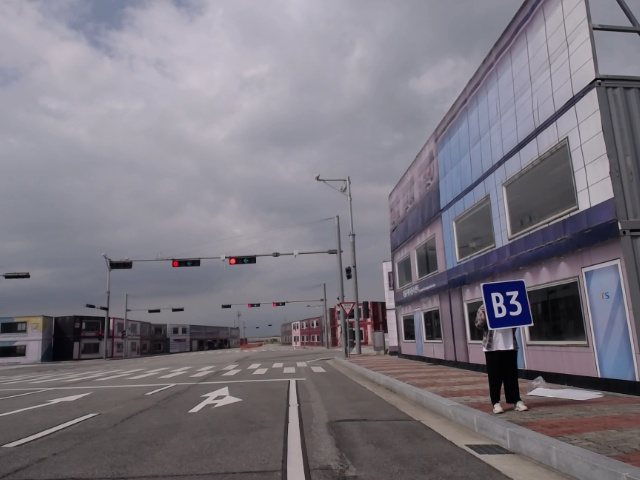delivery_b3: (480, 278, 533, 331)
left_green_4: (170, 255, 204, 269), (226, 253, 260, 265), (271, 300, 288, 308), (246, 302, 262, 309)
